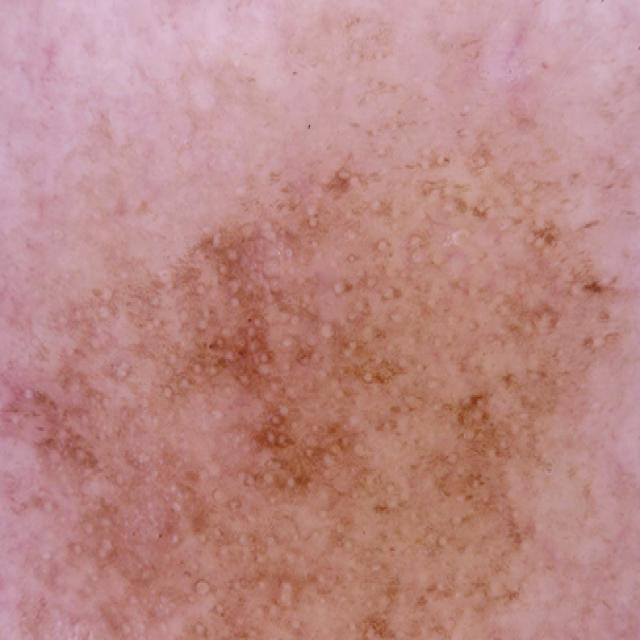Keratosis: (0, 104, 639, 640)
